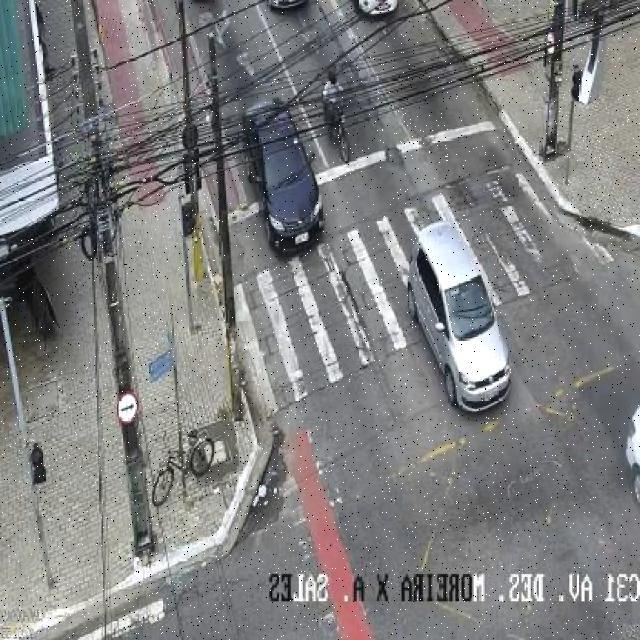Car: (409, 218, 514, 418), (240, 102, 325, 257)
Cycle: (322, 71, 356, 157)
